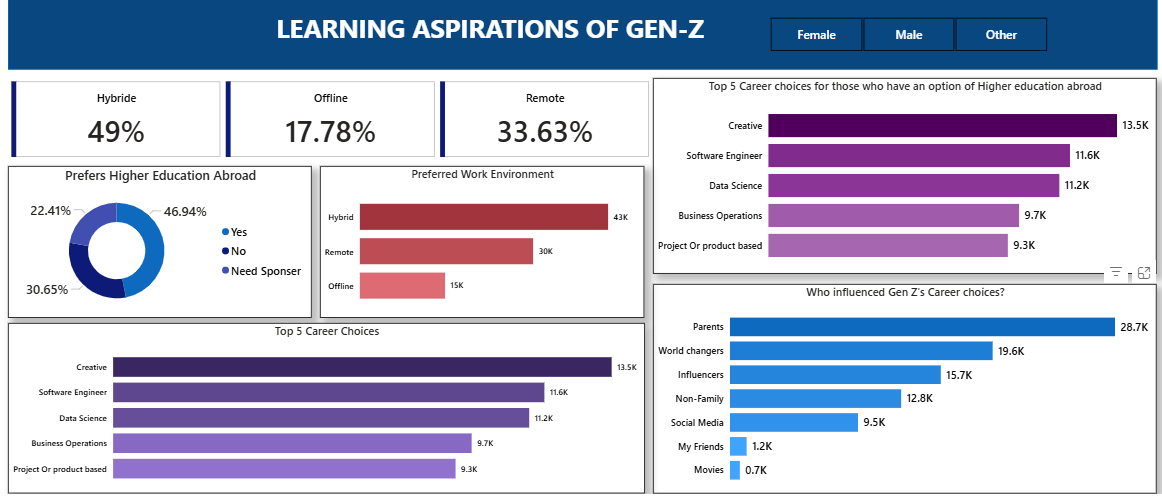

The dashboard page shown, as its layout file describes it:
{"tool":"powerbi","page":{"name":"Page 3","canvas":[1700,720],"ordinal":2},"visuals":[{"type":"shape","box":[11.1,0,1673.1,102.7],"z":0},{"type":"textbox","box":[319.9,11,786,80.4],"z":1000},{"type":"slicer","fields":{"Values":["Form responses 1.Gender"]},"box":[1096.5,20.5,451.9,61.6],"z":2000},{"type":"cardVisual","fields":{"Data":["Form responses 1.Hybride","Form responses 1.Offline","Form responses 1.Remote"]},"box":[11,115.2,939.6,120.6],"z":3000},{"type":"donutChart","title":"Prefers Higher Education Abroad","fields":{"Y":["CountNonNull(Form responses 1.Higher Education)"],"Category":["Form responses 1.Higher Education"]},"box":[11,243.1,442.4,221.2],"z":4000},{"type":"barChart","title":"Top 5 Career choices for those who have an option of Higher education abroad","fields":{"Category":["Form responses 1.Career Closest to Your Aspirational Job"],"Y":["CountNonNull(Form responses 1.Higher Education)"]},"box":[950.5,115.2,733,285.2],"z":5000},{"type":"barChart","title":"Who influenced Gen Z''s Career choices?","fields":{"Category":["Form responses 1.Influencing Factors"],"Y":["CountNonNull(Form responses 1.Influencing Factors)"]},"box":[950.5,414.9,733,305.3],"z":6000},{"type":"barChart","title":"Preferred Work Environment","fields":{"Category":["Form responses 1.Work Mode"],"Y":["CountNonNull(Form responses 1.Work Mode)"]},"box":[466.1,243.1,471.6,221.2],"z":7000},{"type":"barChart","title":"Top 5 Career Choices","fields":{"Category":["Form responses 1.Career Closest to Your Aspirational Job"],"Y":["CountNonNull(Form responses 1.Career Closest to Your Aspirational Job)"]},"box":[11.3,472,926.9,248],"z":8000}]}

Visuals, with their boxes in screenshot pixels (x1, y1, x2, y2), scaled from the page's 1700x720 canvas onto the 1162x500 screenshot:
shape: <box>8,0,1151,71</box>
textbox: <box>219,8,756,63</box>
slicer - Form responses 1.Gender: <box>749,14,1058,57</box>
cardVisual - Form responses 1.Hybride x Form responses 1.Offline: <box>8,80,650,164</box>
"Prefers Higher Education Abroad" donutChart: <box>8,169,310,322</box>
"Top 5 Career choices for those who have an option of Higher education abroad" barChart: <box>650,80,1151,278</box>
"Who influenced Gen Z''s Career choices?" barChart: <box>650,288,1151,499</box>
"Preferred Work Environment" barChart: <box>319,169,641,322</box>
"Top 5 Career Choices" barChart: <box>8,328,641,499</box>
